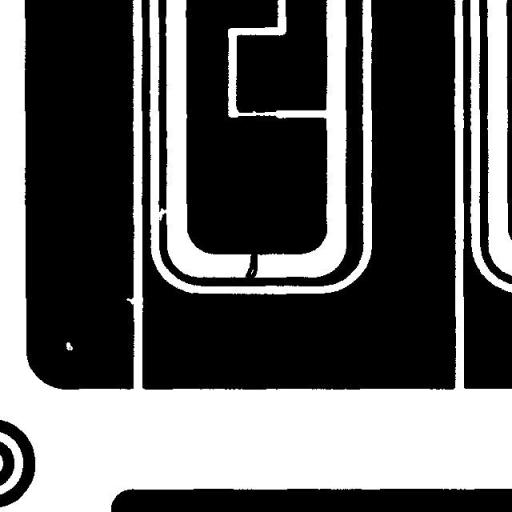mousebite: (118, 290, 142, 312)
open: (150, 200, 176, 228)
pin-hole: (58, 334, 80, 358)
short: (238, 243, 264, 286)
